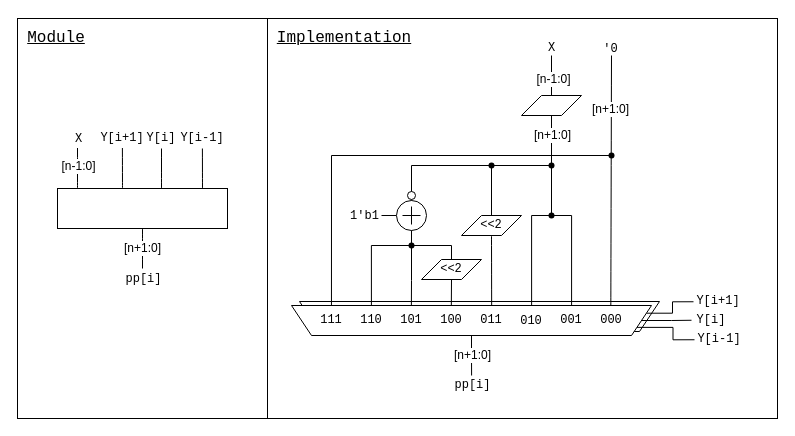
Image size: 795x436. Some labels were removed from this diagram. Here are the shapes that lost their labels. From the top down, the centre of each, then its label:
point (551, 105): SE
point (142, 208): Radix-4
